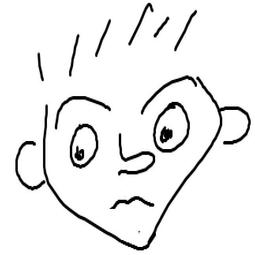ear: (5, 133, 50, 192), (212, 103, 254, 150)
eye: (153, 100, 192, 156), (67, 119, 99, 173)
eyebrow: (49, 94, 116, 127)
frowning_eyebrow: (135, 73, 198, 114)
line_unsmiling_mouth: (105, 190, 156, 216)
nose: (115, 131, 155, 178)
